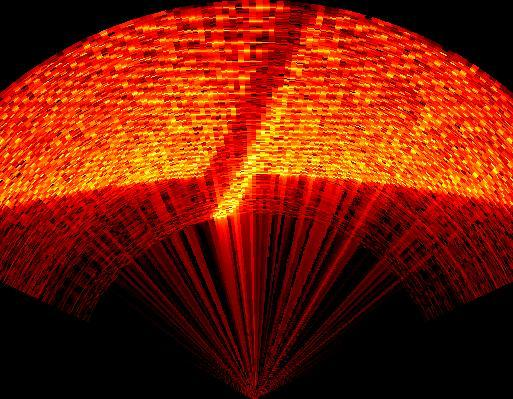pipe: (205, 3, 326, 223)
